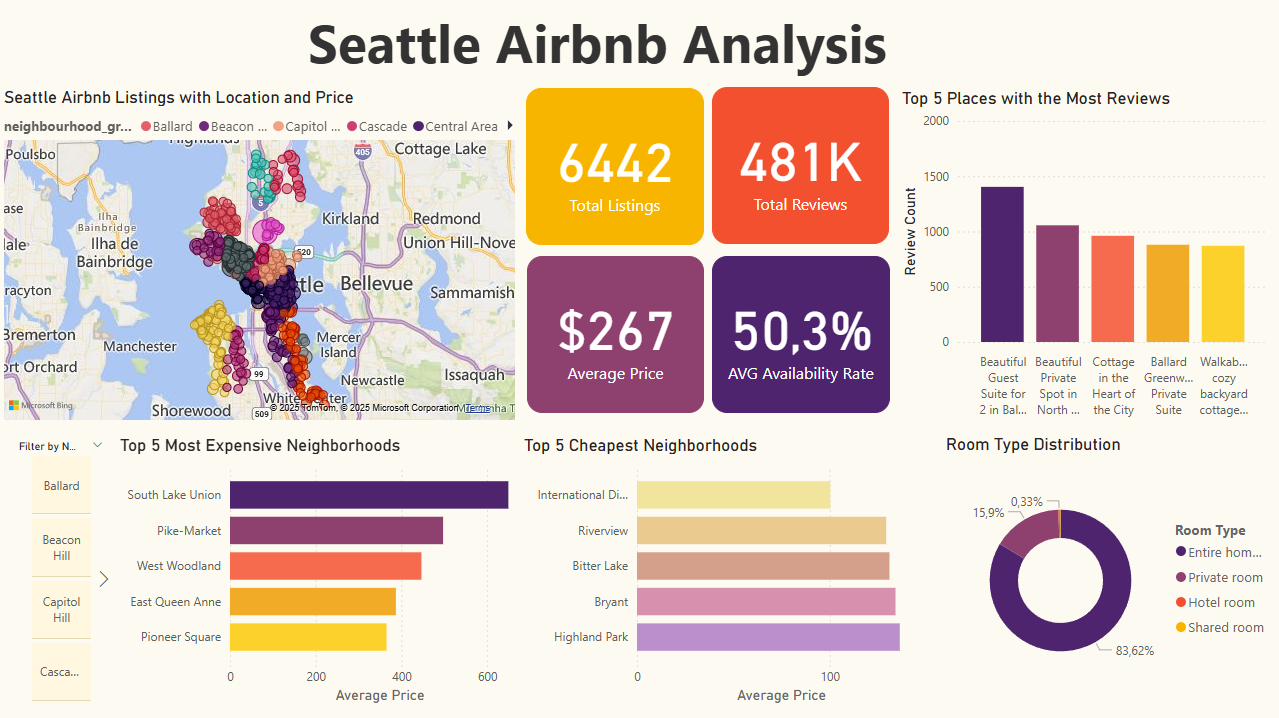

The page's visual inventory and layout, read from the dashboard file:
{"tool":"powerbi","page":{"name":"Seattle Airbnb Dashboard","canvas":[1280,720],"ordinal":0},"visuals":[{"type":"textbox","box":[304.4,0,671.1,114.8],"z":0},{"type":"clusteredColumnChart","title":"Top 5 Places with the Most Reviews","fields":{"Category":["top5_names_by_reviews.listing_name"],"Y":["Sum(top5_names_by_reviews.review_count)"]},"box":[897.8,87.6,375.8,337.2],"z":1000},{"type":"map","title":"Seattle Airbnb Listings with Location and Price","fields":{"Y":["Query2.latitude"],"X":["Query2.longitude"],"Series":["Query2.neighbourhood_group"],"Size":["Avg(Query2.price)"]},"box":[0,87.3,520.9,337.3],"z":2000},{"type":"card","fields":{"Values":["Sum(Query1.avg_price)"]},"box":[528.2,255.8,176.9,157.7],"z":3000},{"type":"card","fields":{"Values":["Sum(Query1.availability_rate)"]},"box":[713,255.8,177.8,157.7],"z":4000},{"type":"card","fields":{"Values":["Sum(Query1.total_listings)"]},"box":[527.3,87.6,177.8,157.7],"z":5000},{"type":"card","title":"Review Activity by Year","fields":{"Values":["Sum(reviews_per_year.csv.review_count)"]},"box":[713,86.7,176.9,157.7],"z":6000},{"type":"donutChart","title":"Room Type Distribution","fields":{"Y":["CountNonNull(Query2.room_type)"],"Category":["Query2.room_type"]},"box":[942,434,338,273.7],"z":7000},{"type":"clusteredBarChart","title":"Top 5 Most Expensive Neighborhoods","fields":{"Y":["Avg(Query1.avg_price)"],"Category":["Query1.neighbourhood"]},"box":[116,435,430,273],"z":8000},{"type":"slicer","fields":{"Values":["Query1.neighbourhood_group"]},"box":[6.7,435,109.5,272.7],"z":9000},{"type":"clusteredBarChart","title":"Top 5 Cheapest Neighborhoods","fields":{"Y":["Avg(Query1.avg_price)"],"Category":["Query1.neighbourhood"]},"box":[520.5,435,421.5,272.7],"z":10000}]}

Visuals, with their boxes in screenshot pixels (x1, y1, x2, y2), scaled from the page's 1280x720 canvas onto the 1279x718 screenshot:
textbox: bbox(304, 0, 975, 114)
"Top 5 Places with the Most Reviews" clusteredColumnChart: bbox(897, 87, 1273, 424)
"Seattle Airbnb Listings with Location and Price" map: bbox(0, 87, 520, 423)
card - Sum(Query1.avg_price): bbox(528, 255, 705, 412)
card - Sum(Query1.availability_rate): bbox(712, 255, 890, 412)
card - Sum(Query1.total_listings): bbox(527, 87, 705, 245)
"Review Activity by Year" card: bbox(712, 86, 889, 244)
"Room Type Distribution" donutChart: bbox(941, 433, 1278, 706)
"Top 5 Most Expensive Neighborhoods" clusteredBarChart: bbox(116, 434, 546, 706)
slicer - Query1.neighbourhood_group: bbox(7, 434, 116, 706)
"Top 5 Cheapest Neighborhoods" clusteredBarChart: bbox(520, 434, 941, 706)
